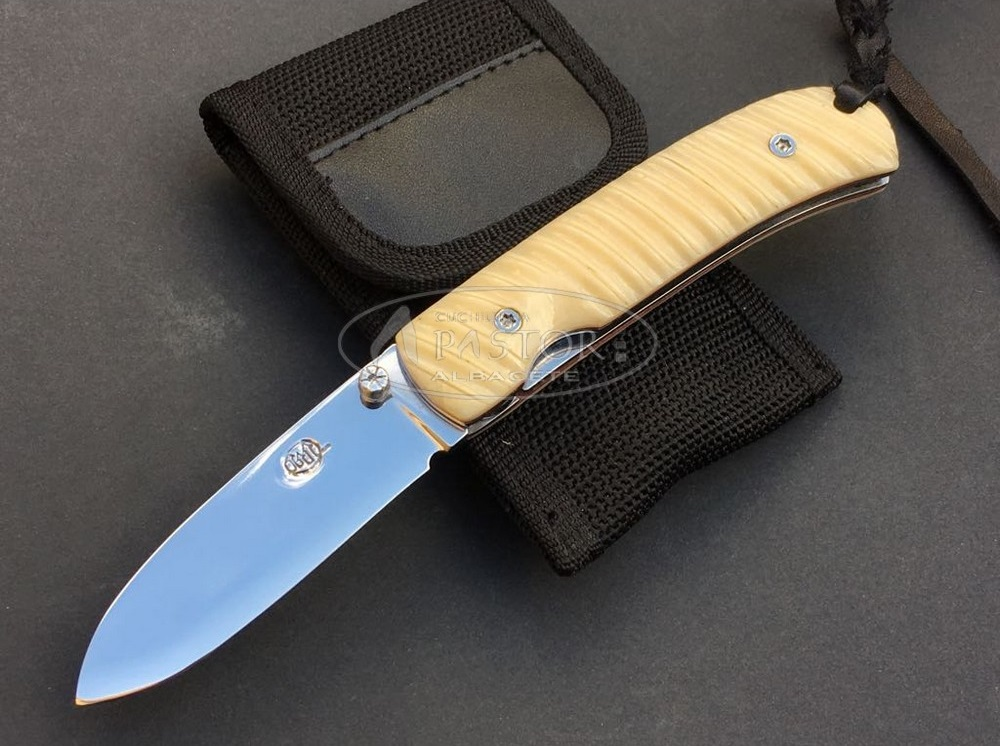knife: (65, 324, 491, 714)
